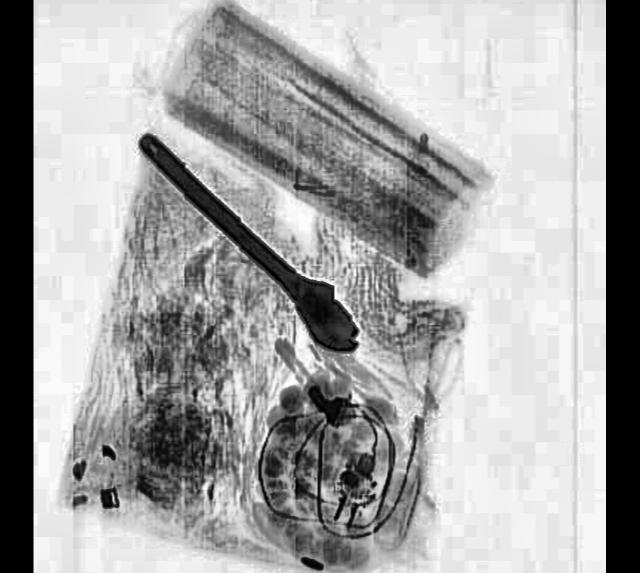Wrench: (127, 111, 374, 366)
